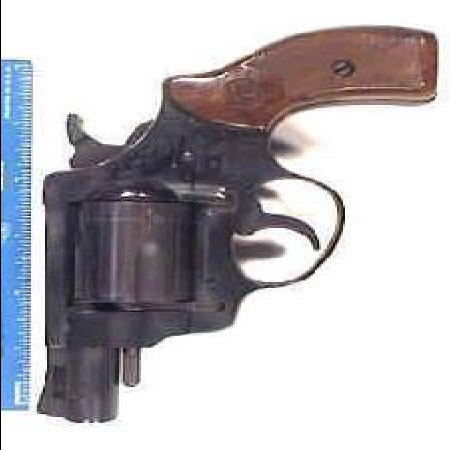Pistol: (30, 18, 434, 420)
